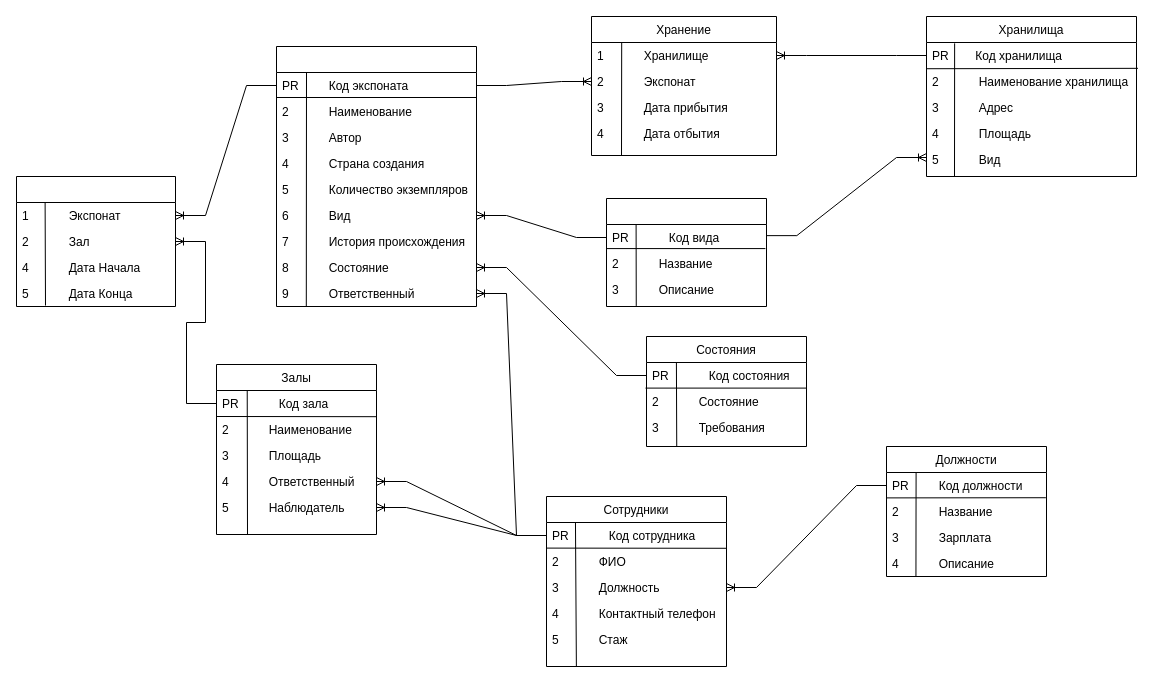
The diagram is 1154 pixels wide and 683 high, and some of its shapes have lost their labels. Each missing label, with the box of its shape:
Виды: (606, 198, 766, 306)
Выставка: (16, 176, 176, 306)
Экспонаты: (276, 46, 476, 306)
